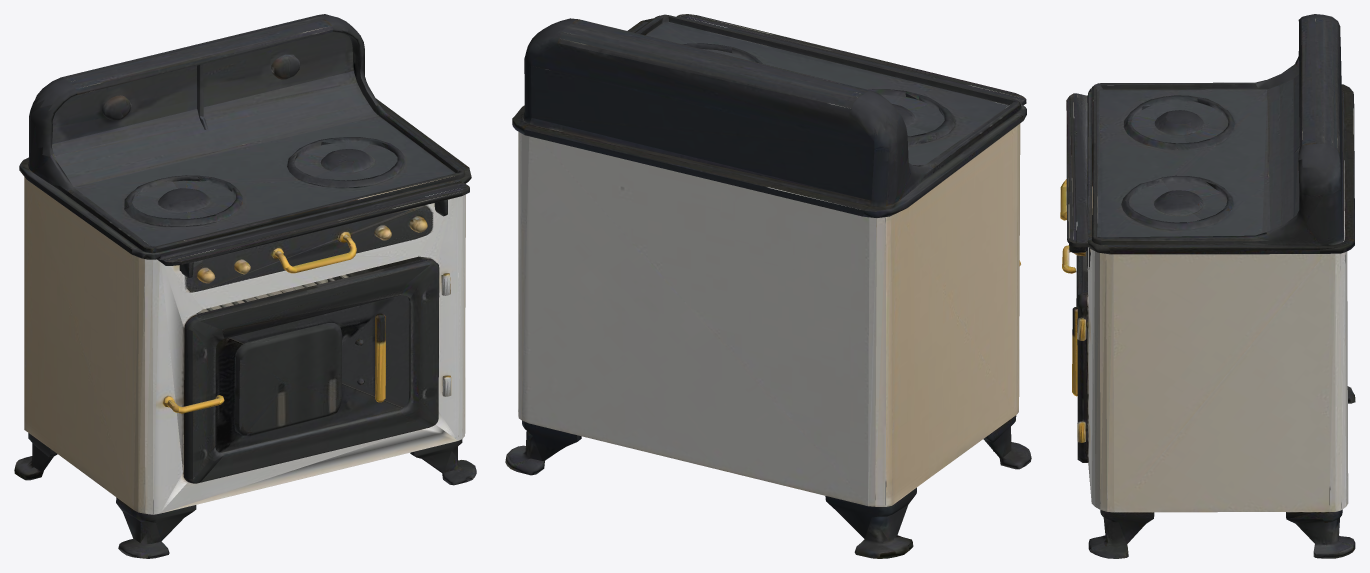
Rendered from stove.glb.
The picture shows the model from 3 angles, left to right: view 1: azimuth 30°, elevation 25°; view 2: azimuth 150°, elevation 25°; view 3: azimuth 270°, elevation 25°; orthographic projection. The views are drawn at different scales.
Size of the model in its own units: 0.9 by 0.95 by 0.65.
1 material, 1 textured.
